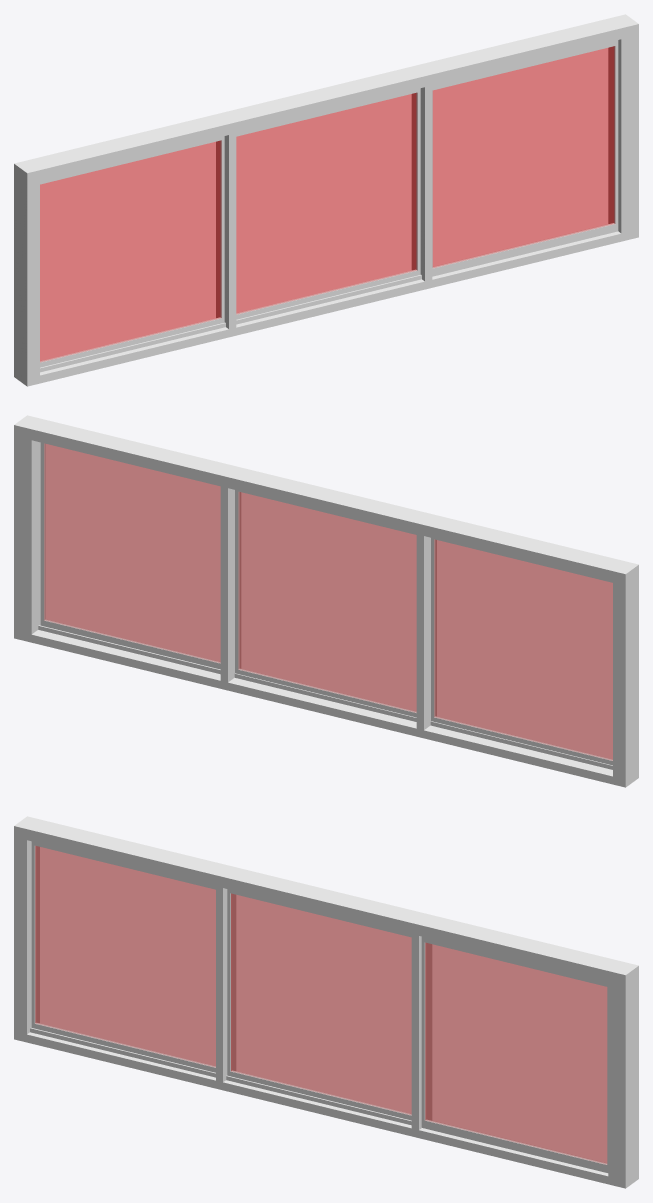
File: wall with windows set 8.FBX
The picture shows the model from 3 angles, top to bottom: view 1: azimuth 30°, elevation 25°; view 2: azimuth 150°, elevation 25°; view 3: azimuth 330°, elevation 25°; orthographic projection.
Parts seen in each view (by area): view 1: wall with windows set 8; view 2: wall with windows set 8; view 3: wall with windows set 8.
Part boxes in pixels (x1=…): wall with windows set 8: x1=14, y1=14, x2=638, y2=386; wall with windows set 8: x1=14, y1=415, x2=638, y2=787; wall with windows set 8: x1=14, y1=816, x2=638, y2=1188.
Size of the model in its own units: 4 by 1.33 by 0.15.
